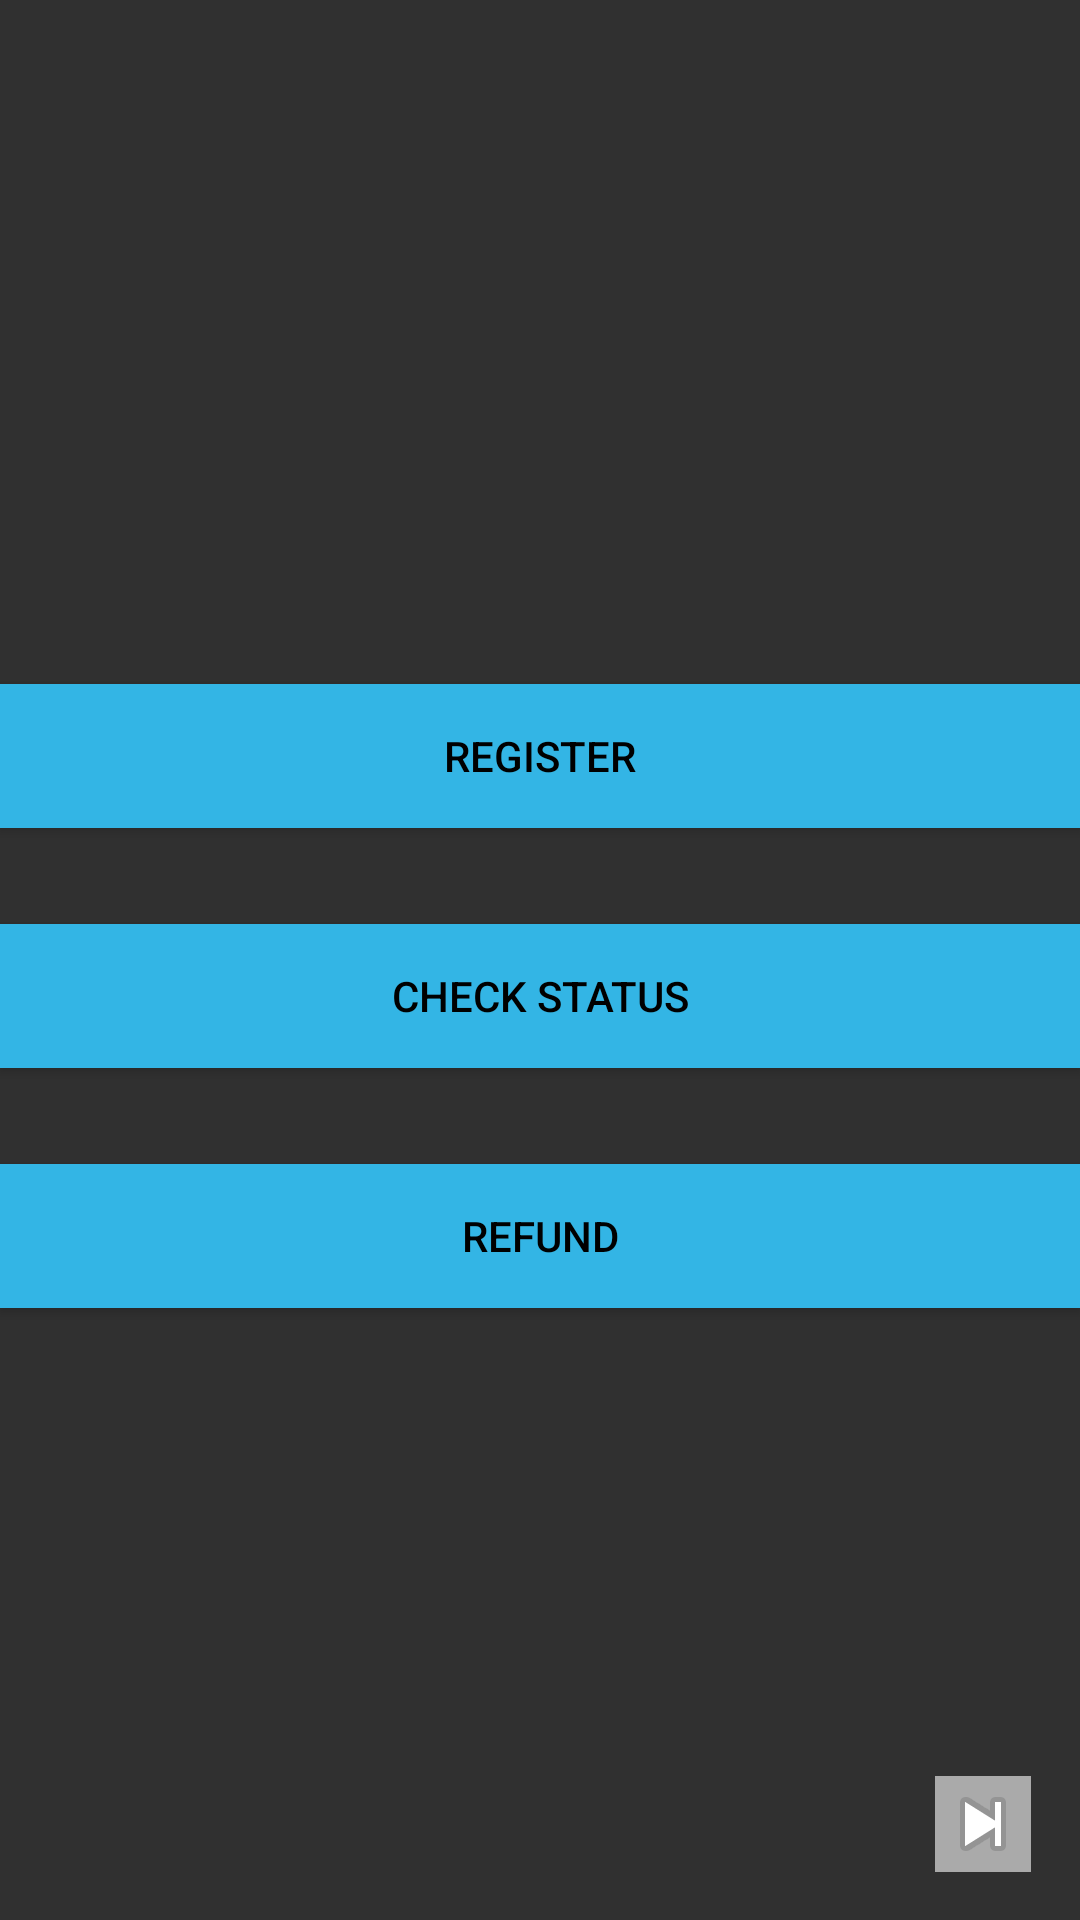

Screen size 1080px×1920px. Icon name, then its box in pixels as (left=x1, top=y1, right=x2, bottom=y2):
next: (left=935, top=1776, right=1031, bottom=1872)
